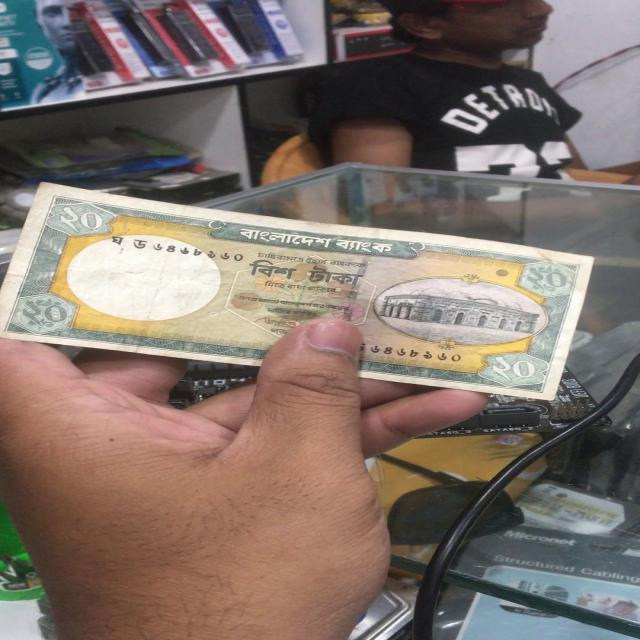Taka: (7, 178, 578, 402)
